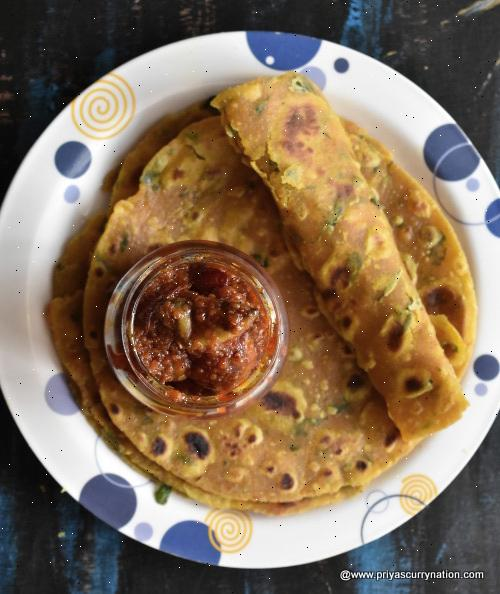thepla: (82, 92, 475, 482)
